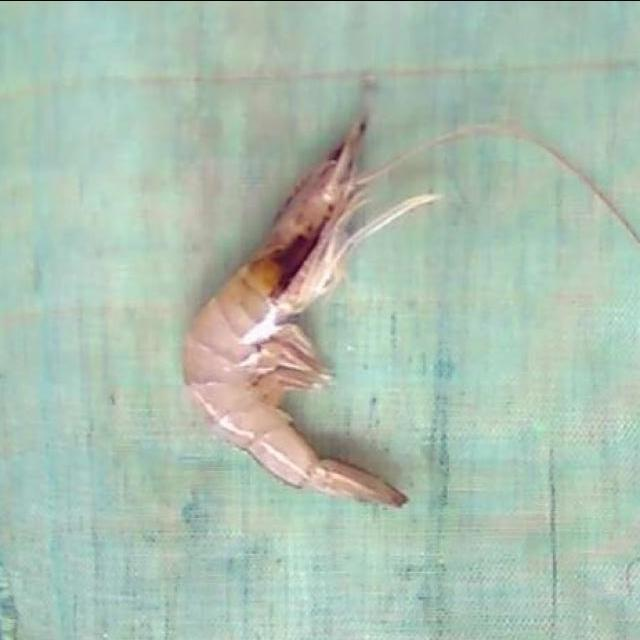shrimp: (184, 119, 436, 507)
